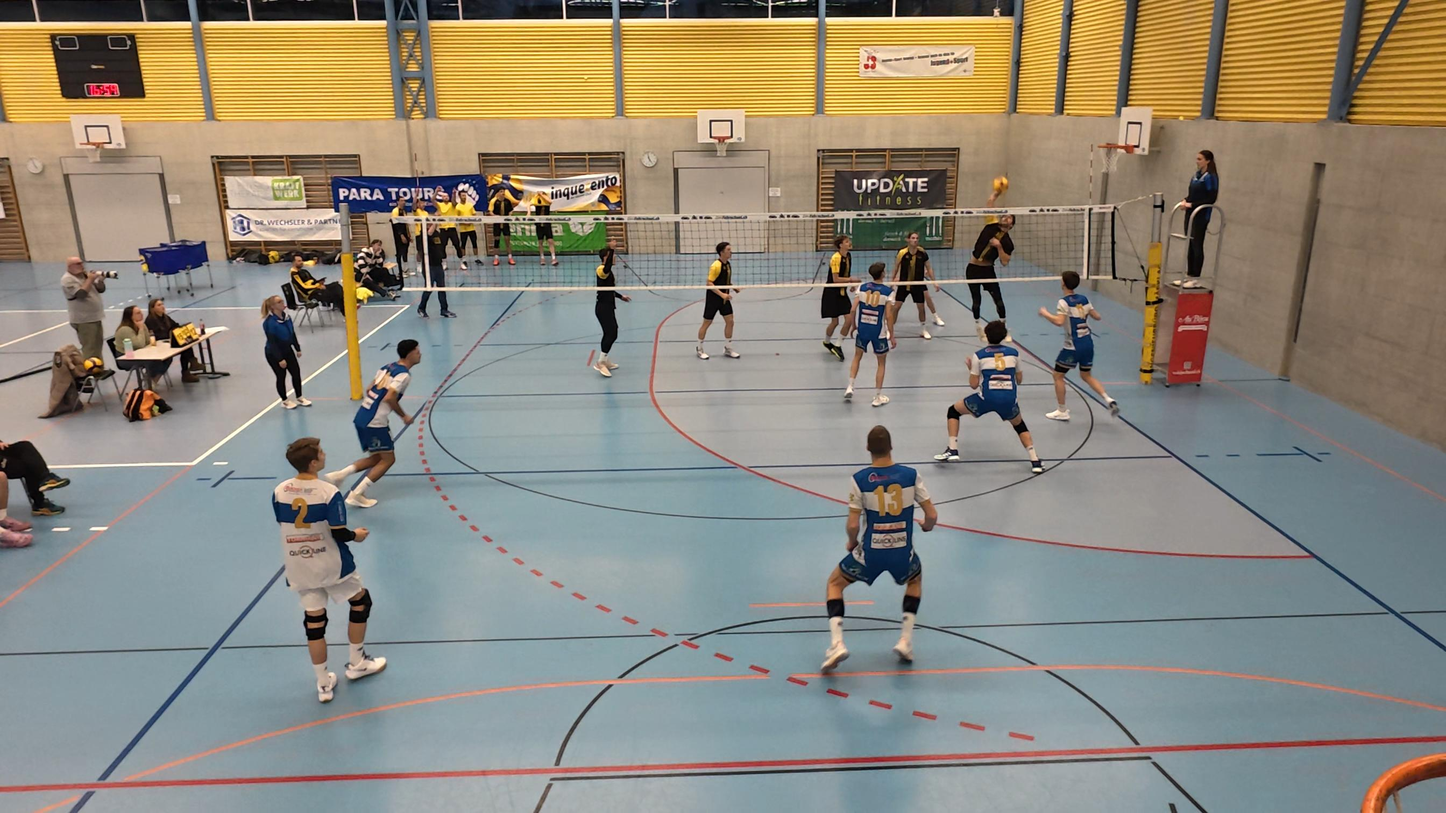attacco: (960, 172, 1022, 343)
